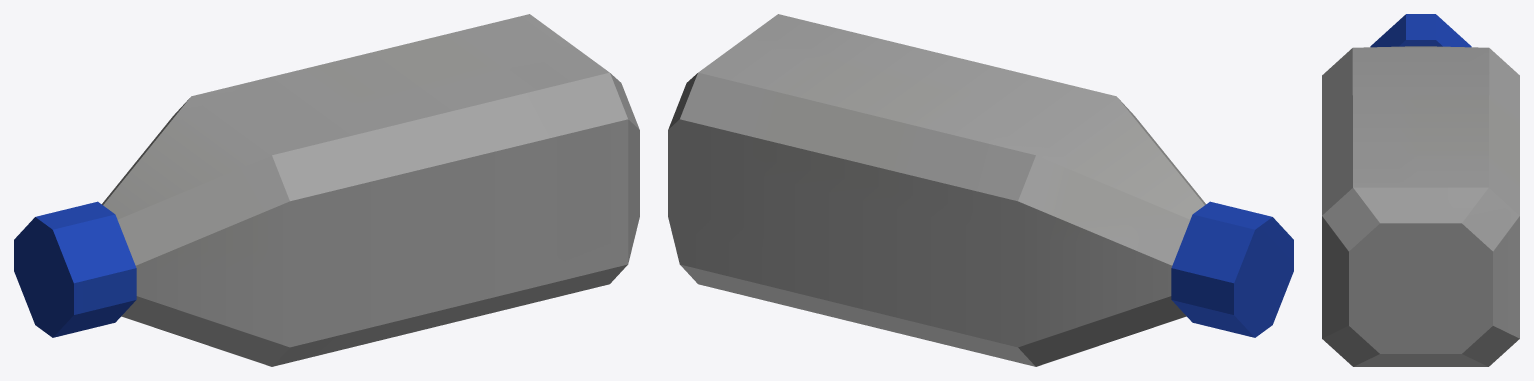
The model's file is Bottle01.fbx.
3 views of the same model, side by side, from view 1: azimuth 30°, elevation 25°; view 2: azimuth 150°, elevation 25°; view 3: azimuth 270°, elevation 25° (orthographic). The views are drawn at different scales.
Parts seen in each view (by area): view 1: Bottle01; view 2: Bottle01; view 3: Bottle01.
Part boxes in pixels (x1=…): Bottle01: x1=14, y1=14, x2=639, y2=366; Bottle01: x1=668, y1=14, x2=1293, y2=366; Bottle01: x1=1322, y1=14, x2=1519, y2=366.
Bounding box in the file's own units: 394 × 144 × 144.
